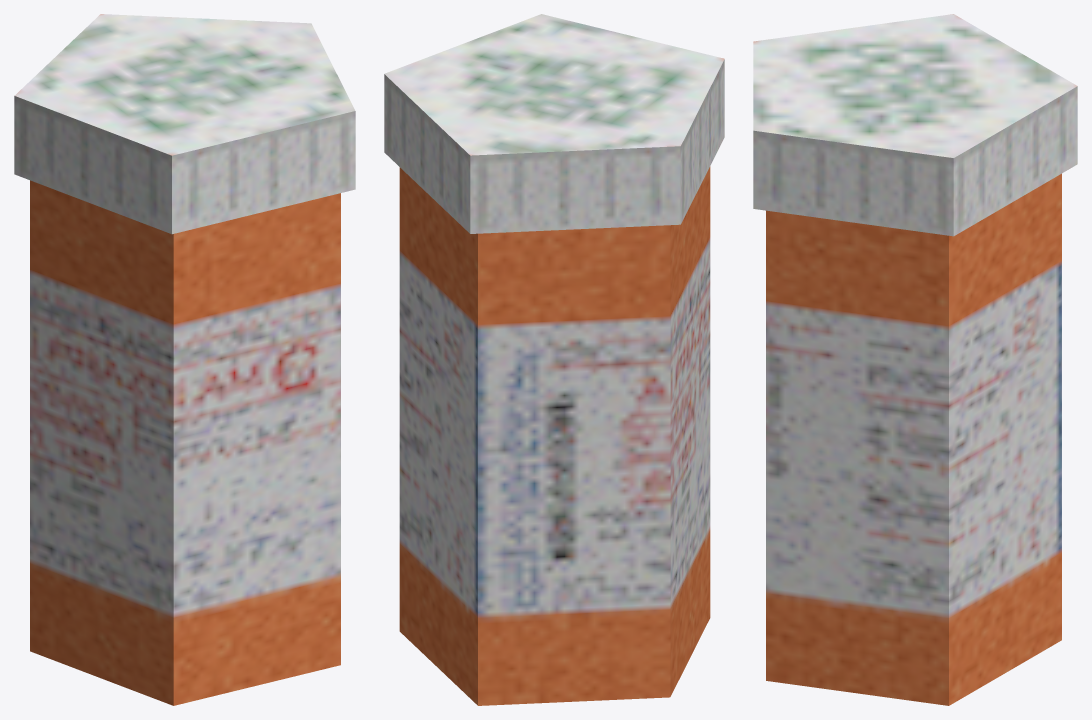
Rendered from Pills.fbx.
3 views of the same model, side by side, from view 1: azimuth 30°, elevation 25°; view 2: azimuth 150°, elevation 25°; view 3: azimuth 270°, elevation 25° (orthographic).
Visible parts, largest first — view 1: Pills; view 2: Pills; view 3: Pills.
Boxes of the visible parts, bbox=[...] form: Pills: bbox=[14, 14, 355, 705]; Pills: bbox=[384, 14, 724, 705]; Pills: bbox=[753, 14, 1077, 705].
Bounding box in the file's own units: 43.34 × 77.65 × 41.21.
Materials: 1 (1 with a texture image).
